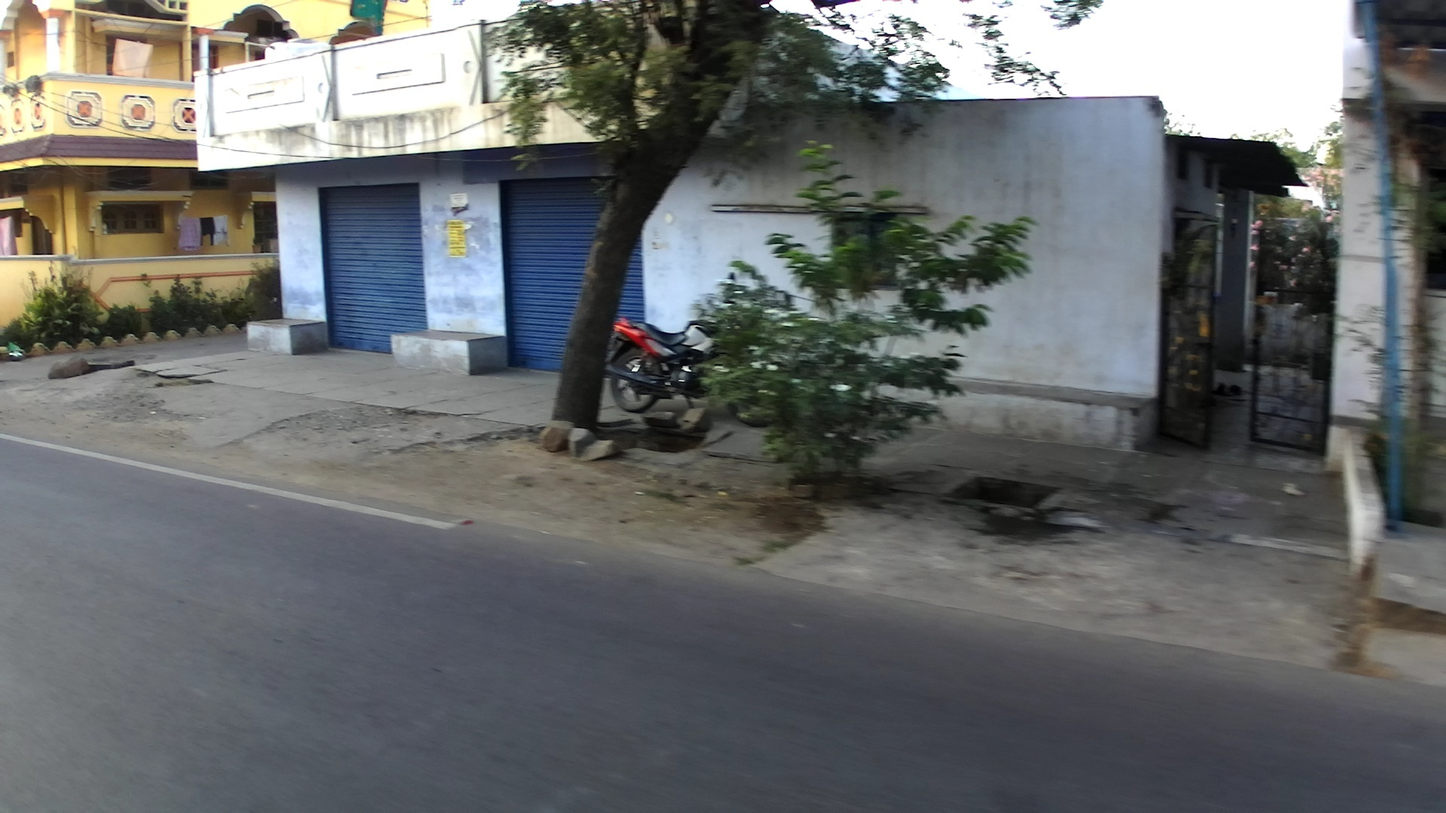motorcycle: (604, 311, 742, 417)
